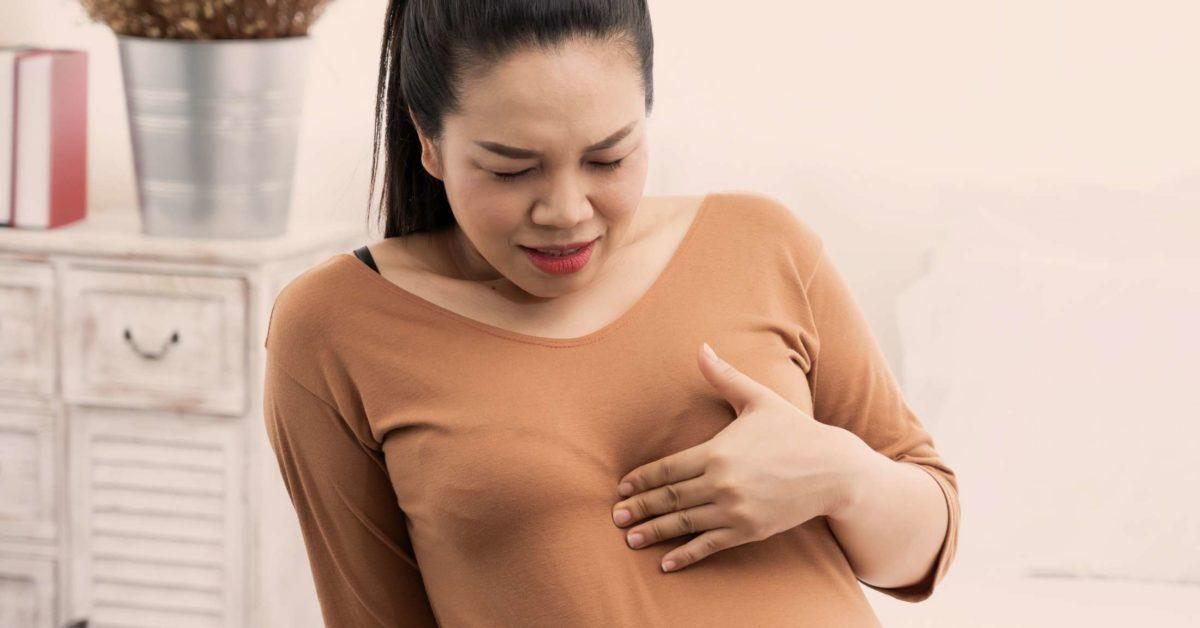pain: (451, 117, 648, 183)
